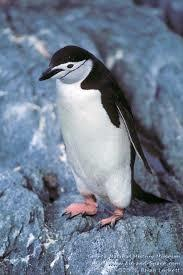chinstrap: (23, 43, 180, 240)
